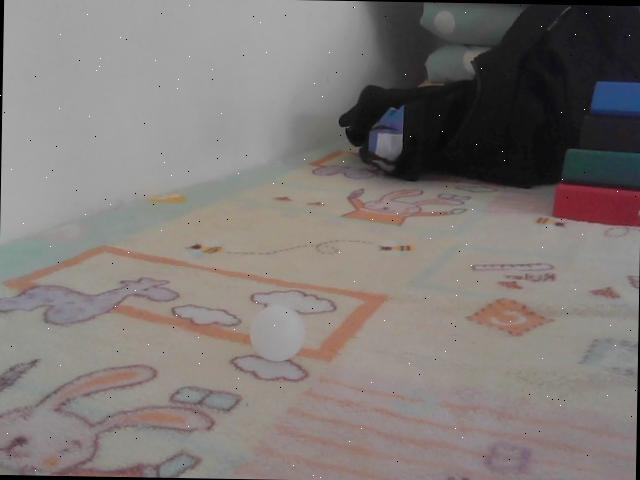ball: (251, 308, 305, 362)
